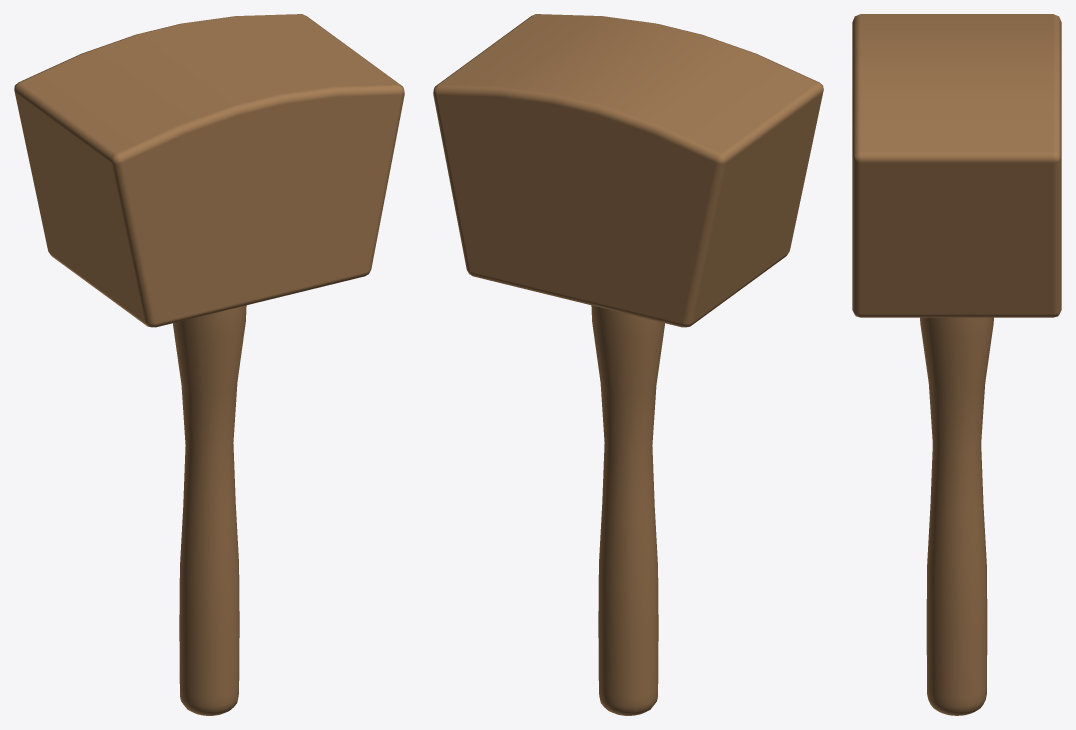
File: work_axe.fbx
3 renders of one model, left to right at view 1: azimuth 30°, elevation 25°; view 2: azimuth 150°, elevation 25°; view 3: azimuth 270°, elevation 25°, orthographic.
Parts seen in each view (by area): view 1: work_axe; view 2: work_axe; view 3: work_axe.
Boxes of the visible parts, x1,y1,x2,y2 form: work_axe: (14,14,404,715); work_axe: (433,14,823,715); work_axe: (852,14,1061,715).
Bounding box in the file's own units: 16.34 × 10.09 × 34.37.
